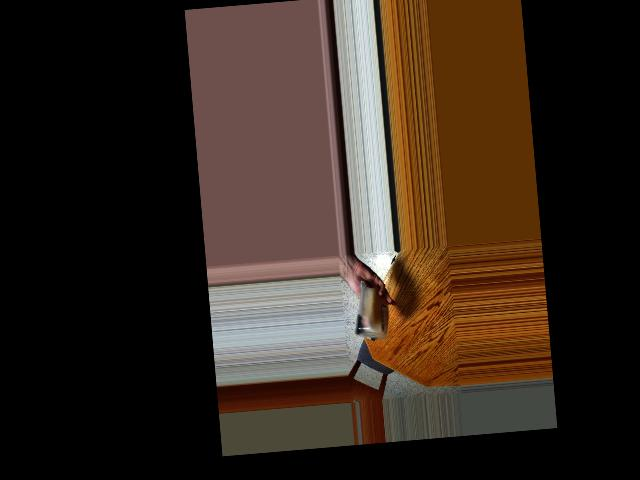cheese: (355, 288, 389, 337)
